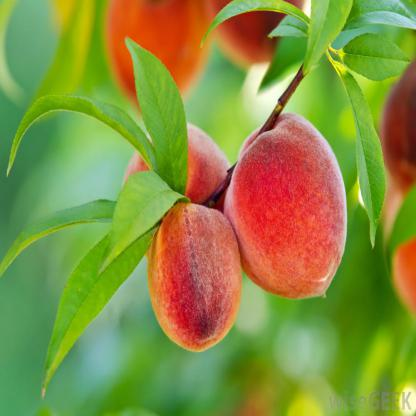peach leaf: (37, 215, 162, 402), (8, 87, 156, 189), (327, 52, 388, 257), (0, 188, 120, 288), (125, 34, 189, 192), (99, 173, 192, 272), (334, 33, 413, 84)
